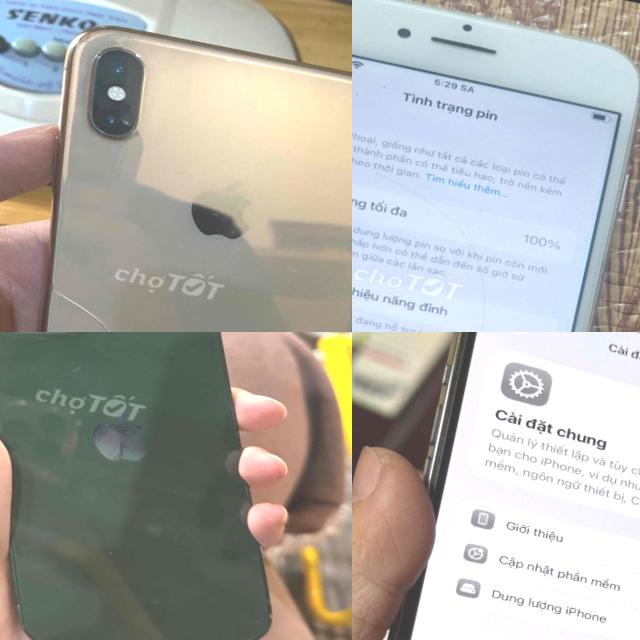gen_12_13: (0, 332, 347, 640), (352, 332, 640, 640)
gen_7_8: (352, 0, 640, 332)
gen_x_xs: (0, 0, 352, 332)
physical_damage: (6, 272, 345, 332)
scratch: (250, 219, 324, 294), (203, 48, 289, 97), (352, 63, 404, 106)
